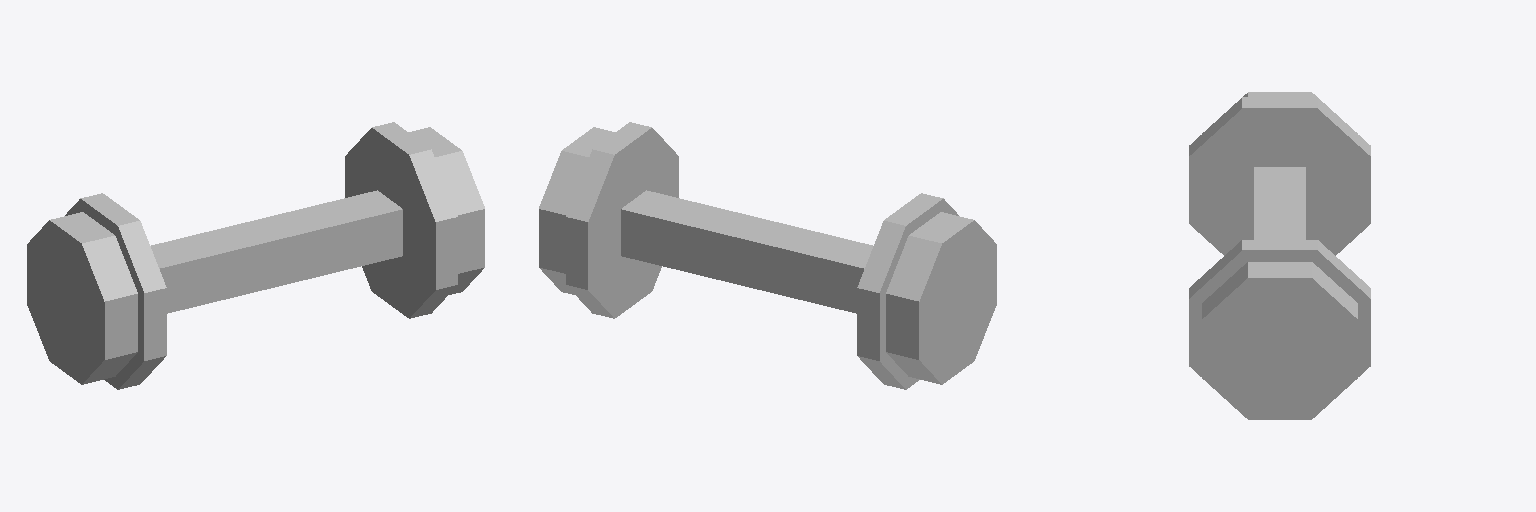
Rendered from long_shaft_wheels.obj.
3 views of the same model, side by side, from view 1: azimuth 30°, elevation 25°; view 2: azimuth 150°, elevation 25°; view 3: azimuth 270°, elevation 25° (orthographic).
Parts seen in each view (by area): view 1: s_create_0, cube_0, cube_1; view 2: s_create_0, cube_0, cube_1; view 3: s_create_0, cube_1.
Boxes of the visible parts, box(x1,y1,x2,y2) form: s_create_0: box(27, 122, 484, 389); cube_0: box(244, 190, 402, 288); cube_1: box(151, 223, 268, 313); s_create_0: box(539, 122, 996, 389); cube_0: box(621, 190, 779, 288); cube_1: box(755, 223, 872, 313); s_create_0: box(1189, 92, 1370, 419); cube_1: box(1254, 167, 1305, 232).
Bounding box in the file's own units: 2.12 × 0.875 × 0.875.